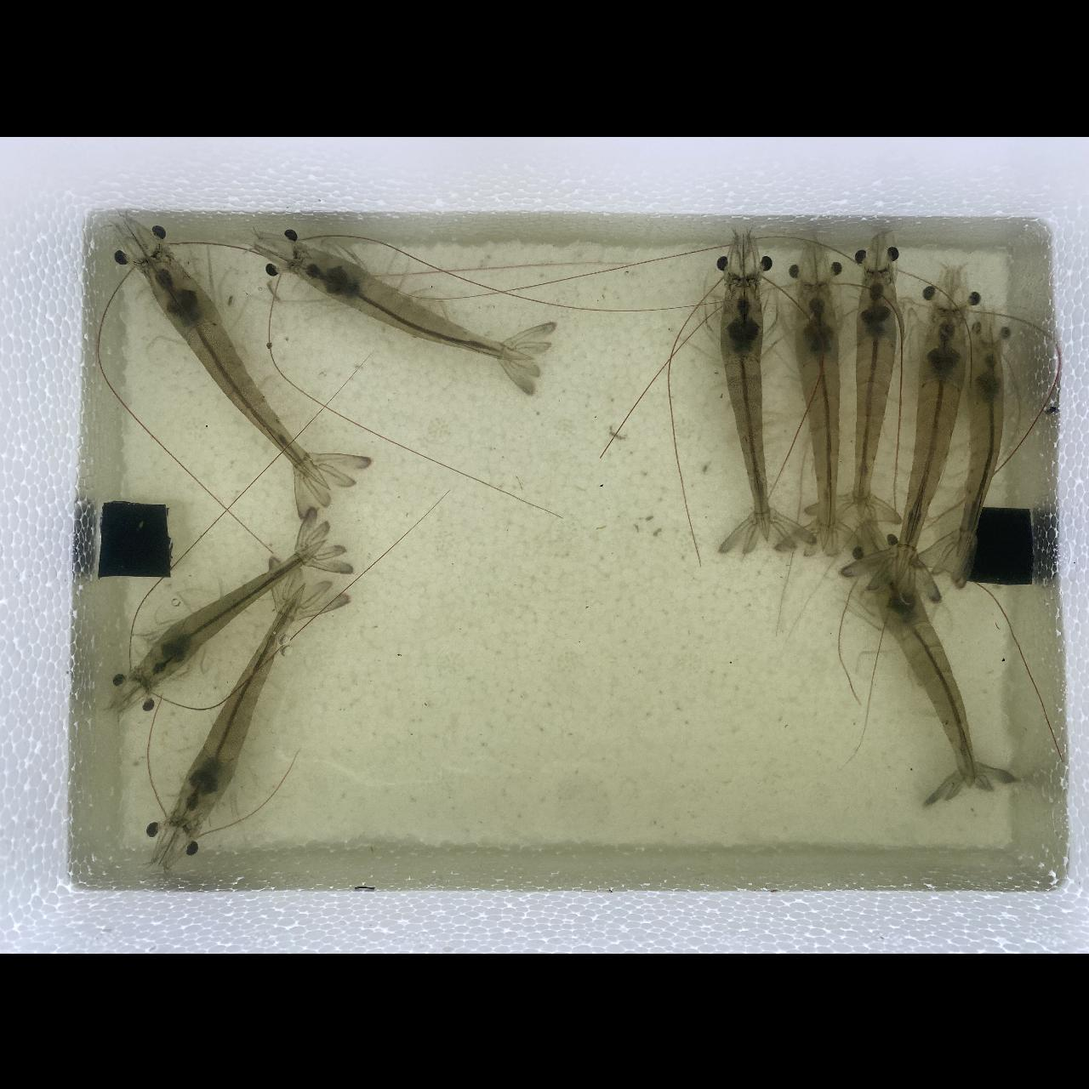box: (97, 502, 168, 577), (972, 507, 1033, 584)
top_shrimp: (145, 254, 323, 492), (174, 585, 303, 827), (138, 543, 323, 687), (291, 248, 522, 361), (868, 562, 973, 779), (892, 311, 968, 573), (795, 284, 841, 539), (721, 281, 767, 534), (851, 274, 897, 519), (956, 337, 1003, 554)
